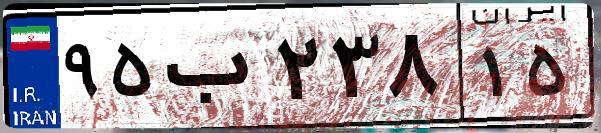1: (475, 38, 525, 113)
2: (270, 28, 330, 110)
3: (330, 28, 385, 110)
5: (525, 38, 570, 115), (110, 28, 158, 98)
8: (385, 28, 445, 110)
9: (57, 26, 110, 100)
ب: (158, 20, 270, 120)
